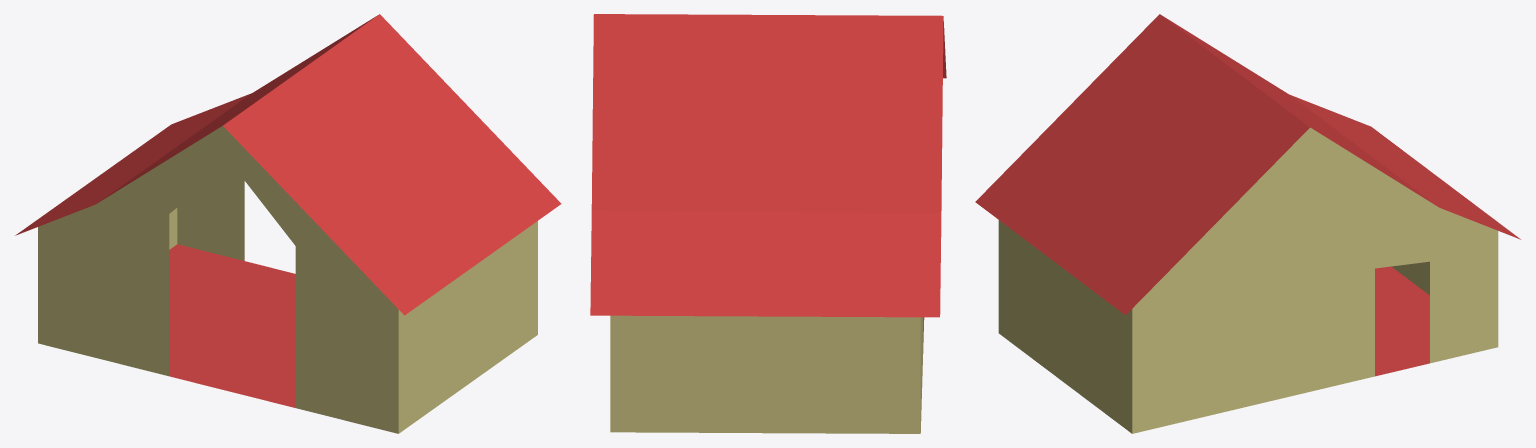
The picture shows the model from 3 angles, left to right: view 1: azimuth 30°, elevation 25°; view 2: azimuth 150°, elevation 25°; view 3: azimuth 270°, elevation 25°; orthographic projection. The views are drawn at different scales.
Size of the model in its own units: 28.48 by 31.74 by 17.47.
